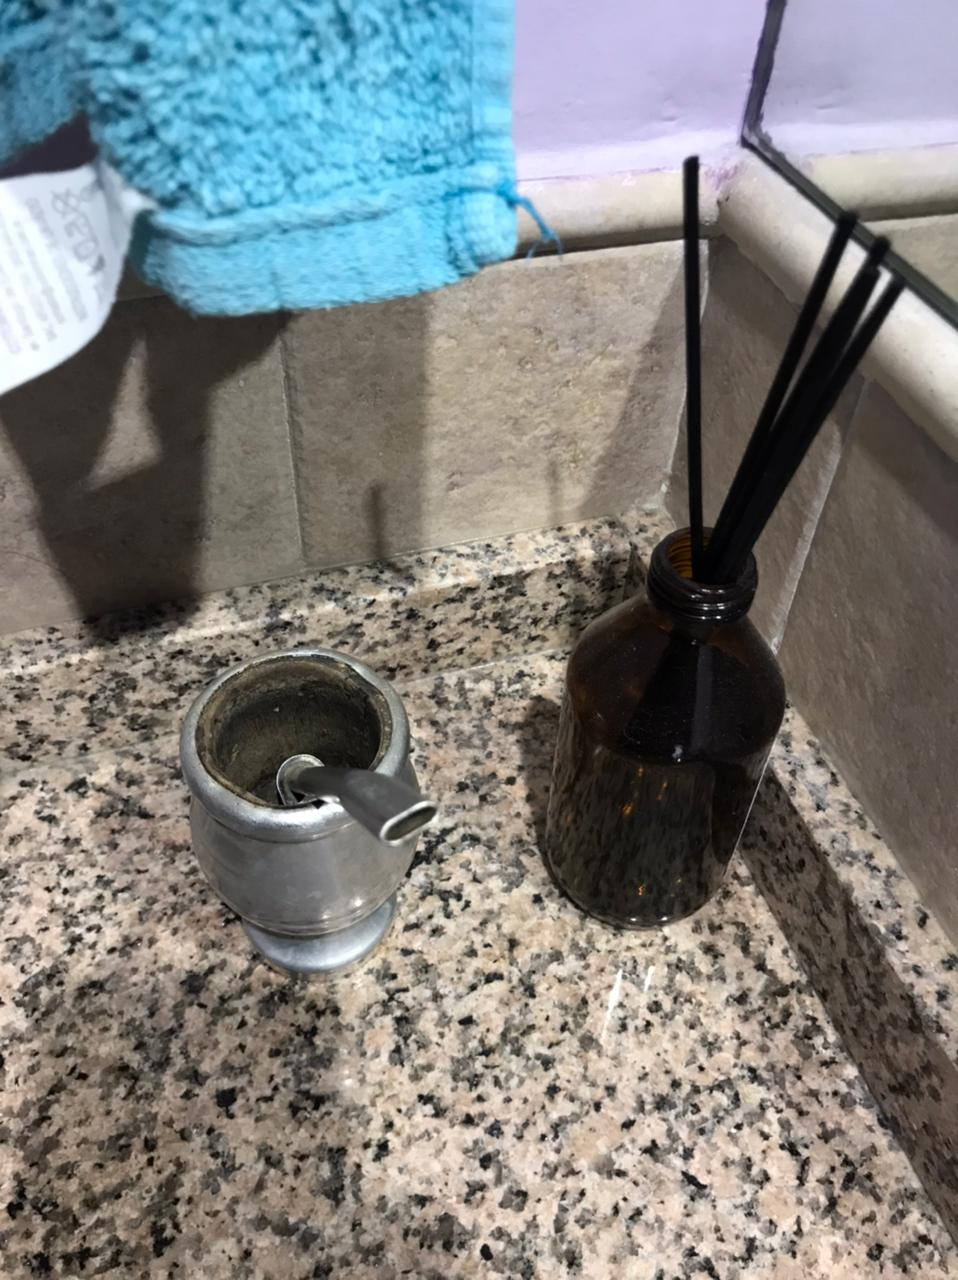mate: (152, 638, 440, 991)
